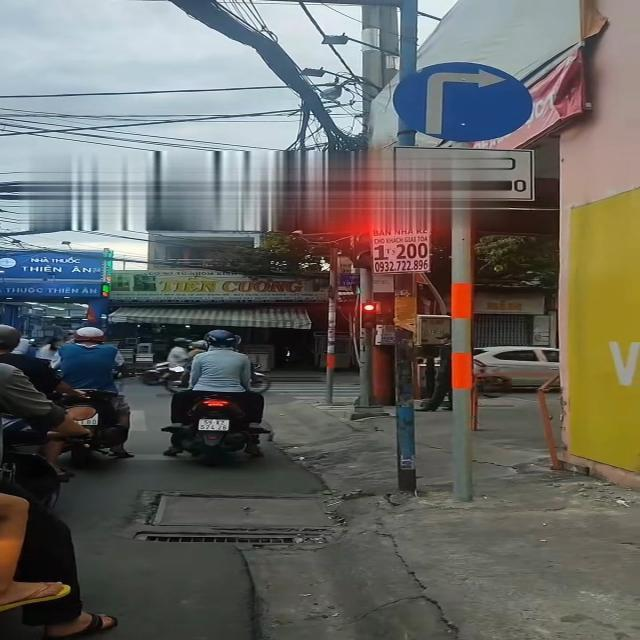301d-cac-xe-chi-duoc-re-phai-2: (388, 57, 538, 146)
